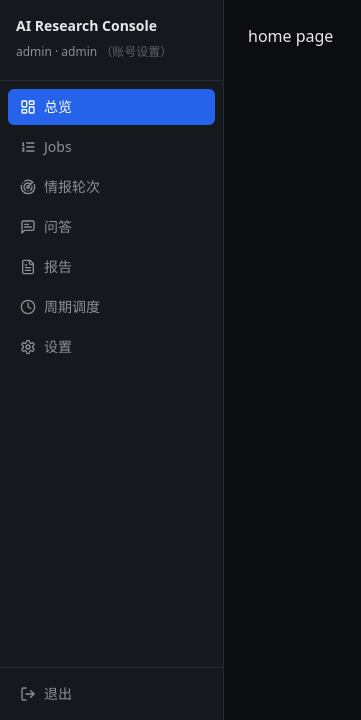
Test case: Layout sidebar › keeps the sidebar visible after navigating on desktop
Step 1. Click the link "报告" → (46, 266), box [20,257,72,276]
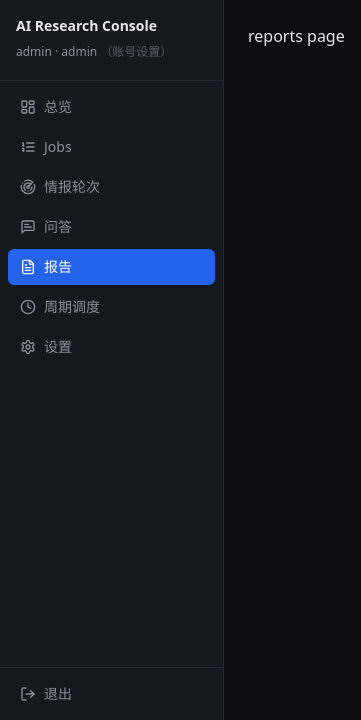
Result: the text "reports page" is shown at [248,25,345,47]
